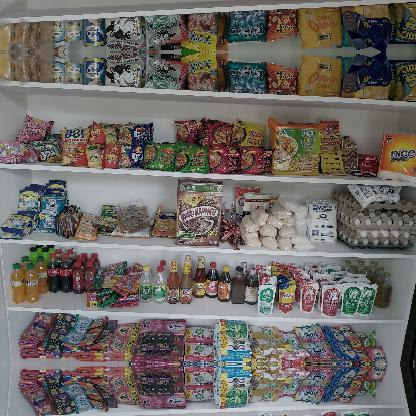Koko-Krunch: (176, 177, 224, 247)
